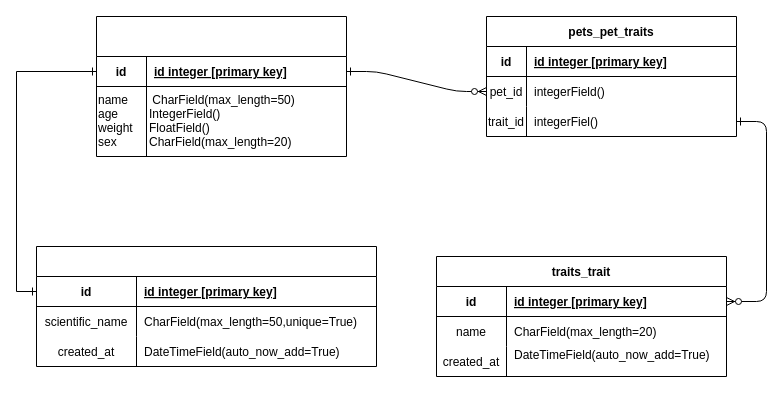
Some shapes in this 783 by 393 pixel diagram are drawn without their labels. Each missing label, with the box of its shape:
groups_group: (36, 246, 376, 366)
pets_pet: (96, 16, 346, 156)
